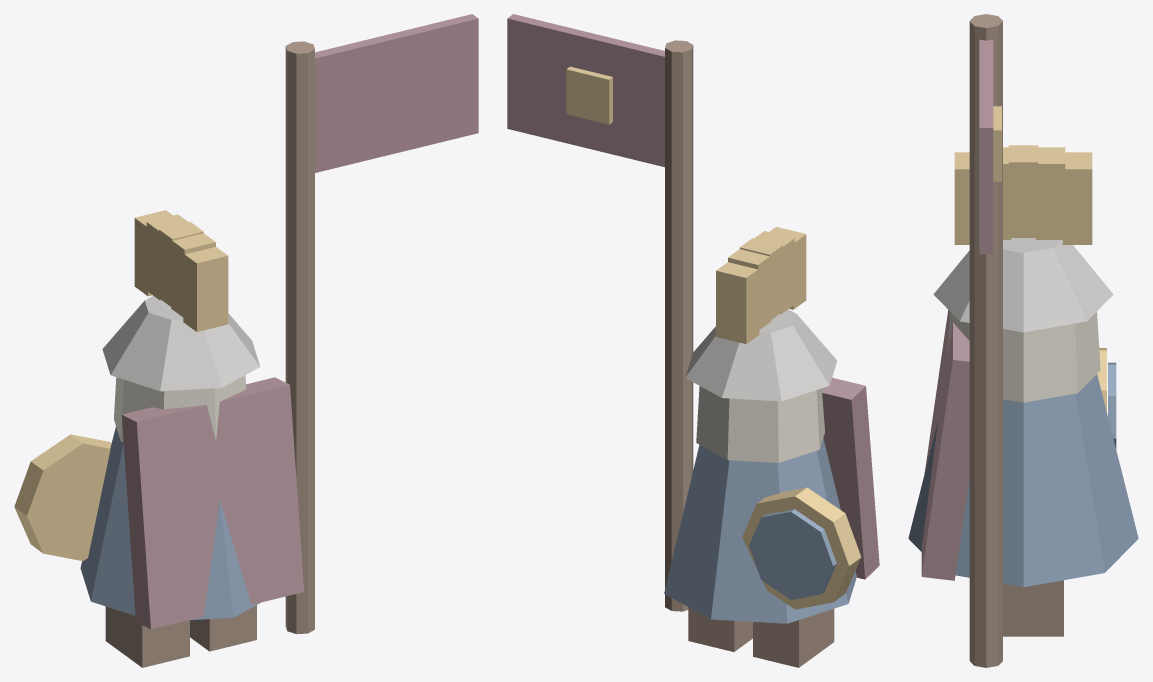
The model's file is commander.glb.
3 views of the same model, side by side, from view 1: azimuth 30°, elevation 25°; view 2: azimuth 150°, elevation 25°; view 3: azimuth 270°, elevation 25° (orthographic). The views are drawn at different scales.
Visible parts, largest first — view 1: commander_825761, commander_735846, commander_D9AB60, commander_A6A4A0, commander_526D91, commander_E6DCC5; view 2: commander_825761, commander_526D91, commander_735846, commander_D9AB60, commander_A6A4A0, commander_E6DCC5; view 3: commander_526D91, commander_735846, commander_825761, commander_D9AB60, commander_A6A4A0, commander_E6DCC5.
Boxes of the visible parts, bbox=[...] form: commander_825761: bbox=[121, 14, 478, 629]; commander_735846: bbox=[105, 41, 314, 667]; commander_D9AB60: bbox=[14, 210, 228, 560]; commander_A6A4A0: bbox=[102, 295, 260, 391]; commander_526D91: bbox=[80, 427, 260, 620]; commander_E6DCC5: bbox=[114, 375, 246, 442]; commander_825761: bbox=[507, 14, 879, 579]; commander_526D91: bbox=[664, 438, 856, 623]; commander_735846: bbox=[665, 40, 834, 667]; commander_D9AB60: bbox=[566, 66, 861, 609]; commander_A6A4A0: bbox=[685, 309, 837, 401]; commander_E6DCC5: bbox=[696, 386, 824, 462]; commander_526D91: bbox=[908, 362, 1138, 587]; commander_735846: bbox=[969, 14, 1063, 667]; commander_825761: bbox=[921, 39, 993, 580]; commander_D9AB60: bbox=[954, 106, 1106, 411]; commander_A6A4A0: bbox=[933, 238, 1113, 332]; commander_E6DCC5: bbox=[947, 312, 1100, 402].
Size of the model in its own units: 0.557 by 0.76 by 0.248.
